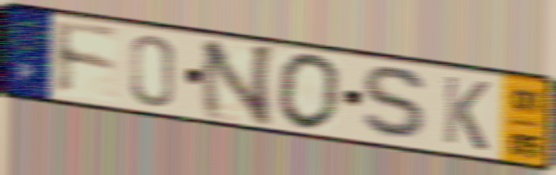0: (127, 32, 177, 109)
F: (52, 17, 123, 99)
K: (440, 72, 493, 155)
N: (198, 39, 279, 129)
O: (274, 50, 344, 134)
S: (358, 63, 433, 144)
